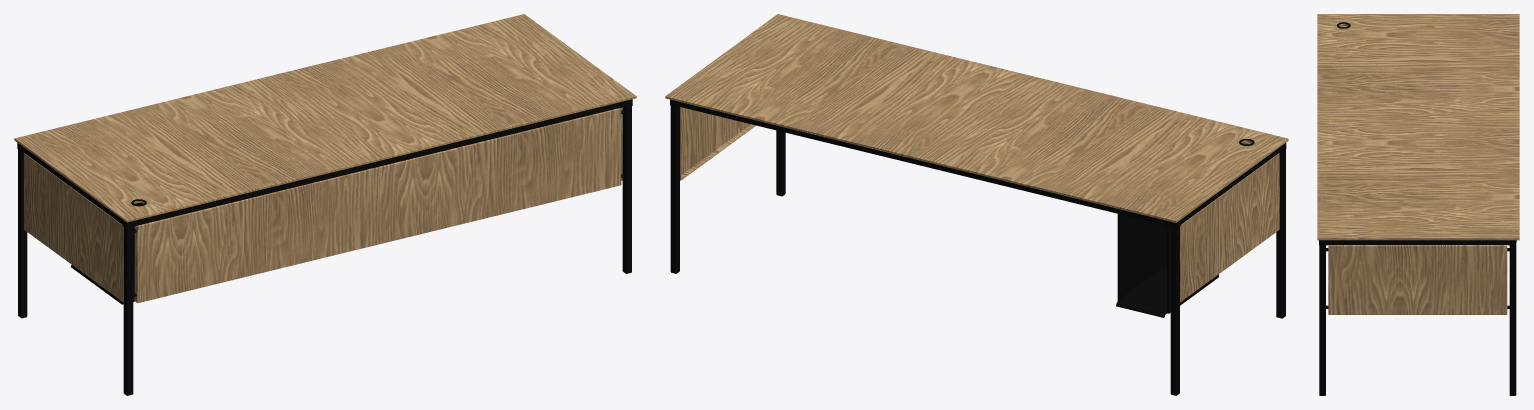
The model's file is desk_3_low_poly.fbx.
3 renders of one model, left to right at view 1: azimuth 30°, elevation 25°; view 2: azimuth 150°, elevation 25°; view 3: azimuth 270°, elevation 25°, orthographic. The views are drawn at different scales.
Parts seen in each view (by area): view 1: Scrivania_3_0; view 2: Scrivania_3_0; view 3: Scrivania_3_0.
Boxes of the visible parts, <box> form: Scrivania_3_0: <box>14,14,636,395</box>; Scrivania_3_0: <box>665,14,1288,395</box>; Scrivania_3_0: <box>1317,14,1519,395</box>.
Size of the model in its own units: 2.31 by 0.7692 by 0.8822.
2 materials, 1 textured.
